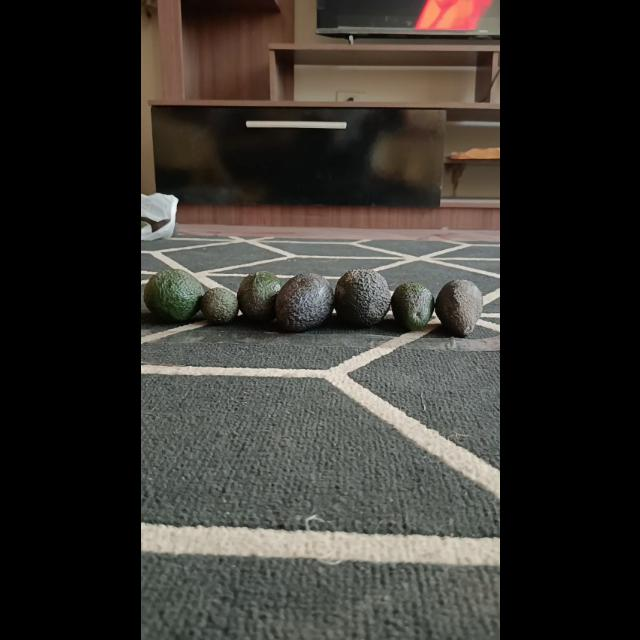Primera: (273, 272, 333, 332), (332, 268, 392, 326), (143, 268, 205, 322)
Segunda: (433, 278, 482, 338), (235, 270, 281, 322), (389, 281, 435, 331)
Tercera: (198, 286, 238, 326)
